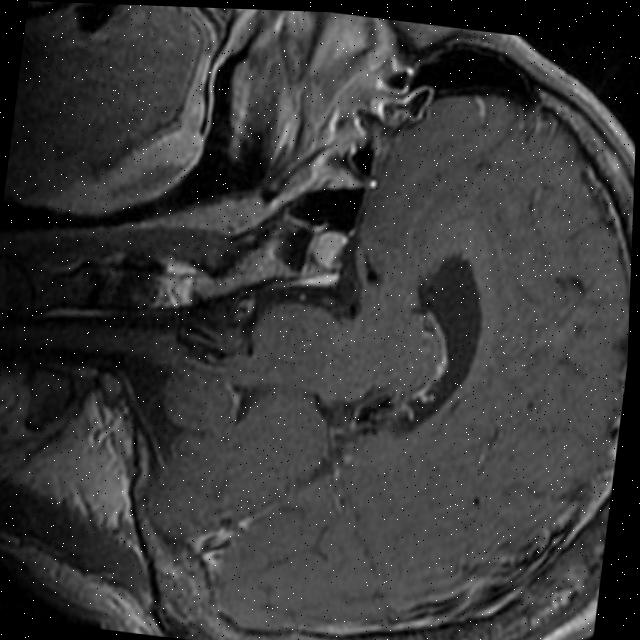Pituitary: (312, 225, 350, 272)
